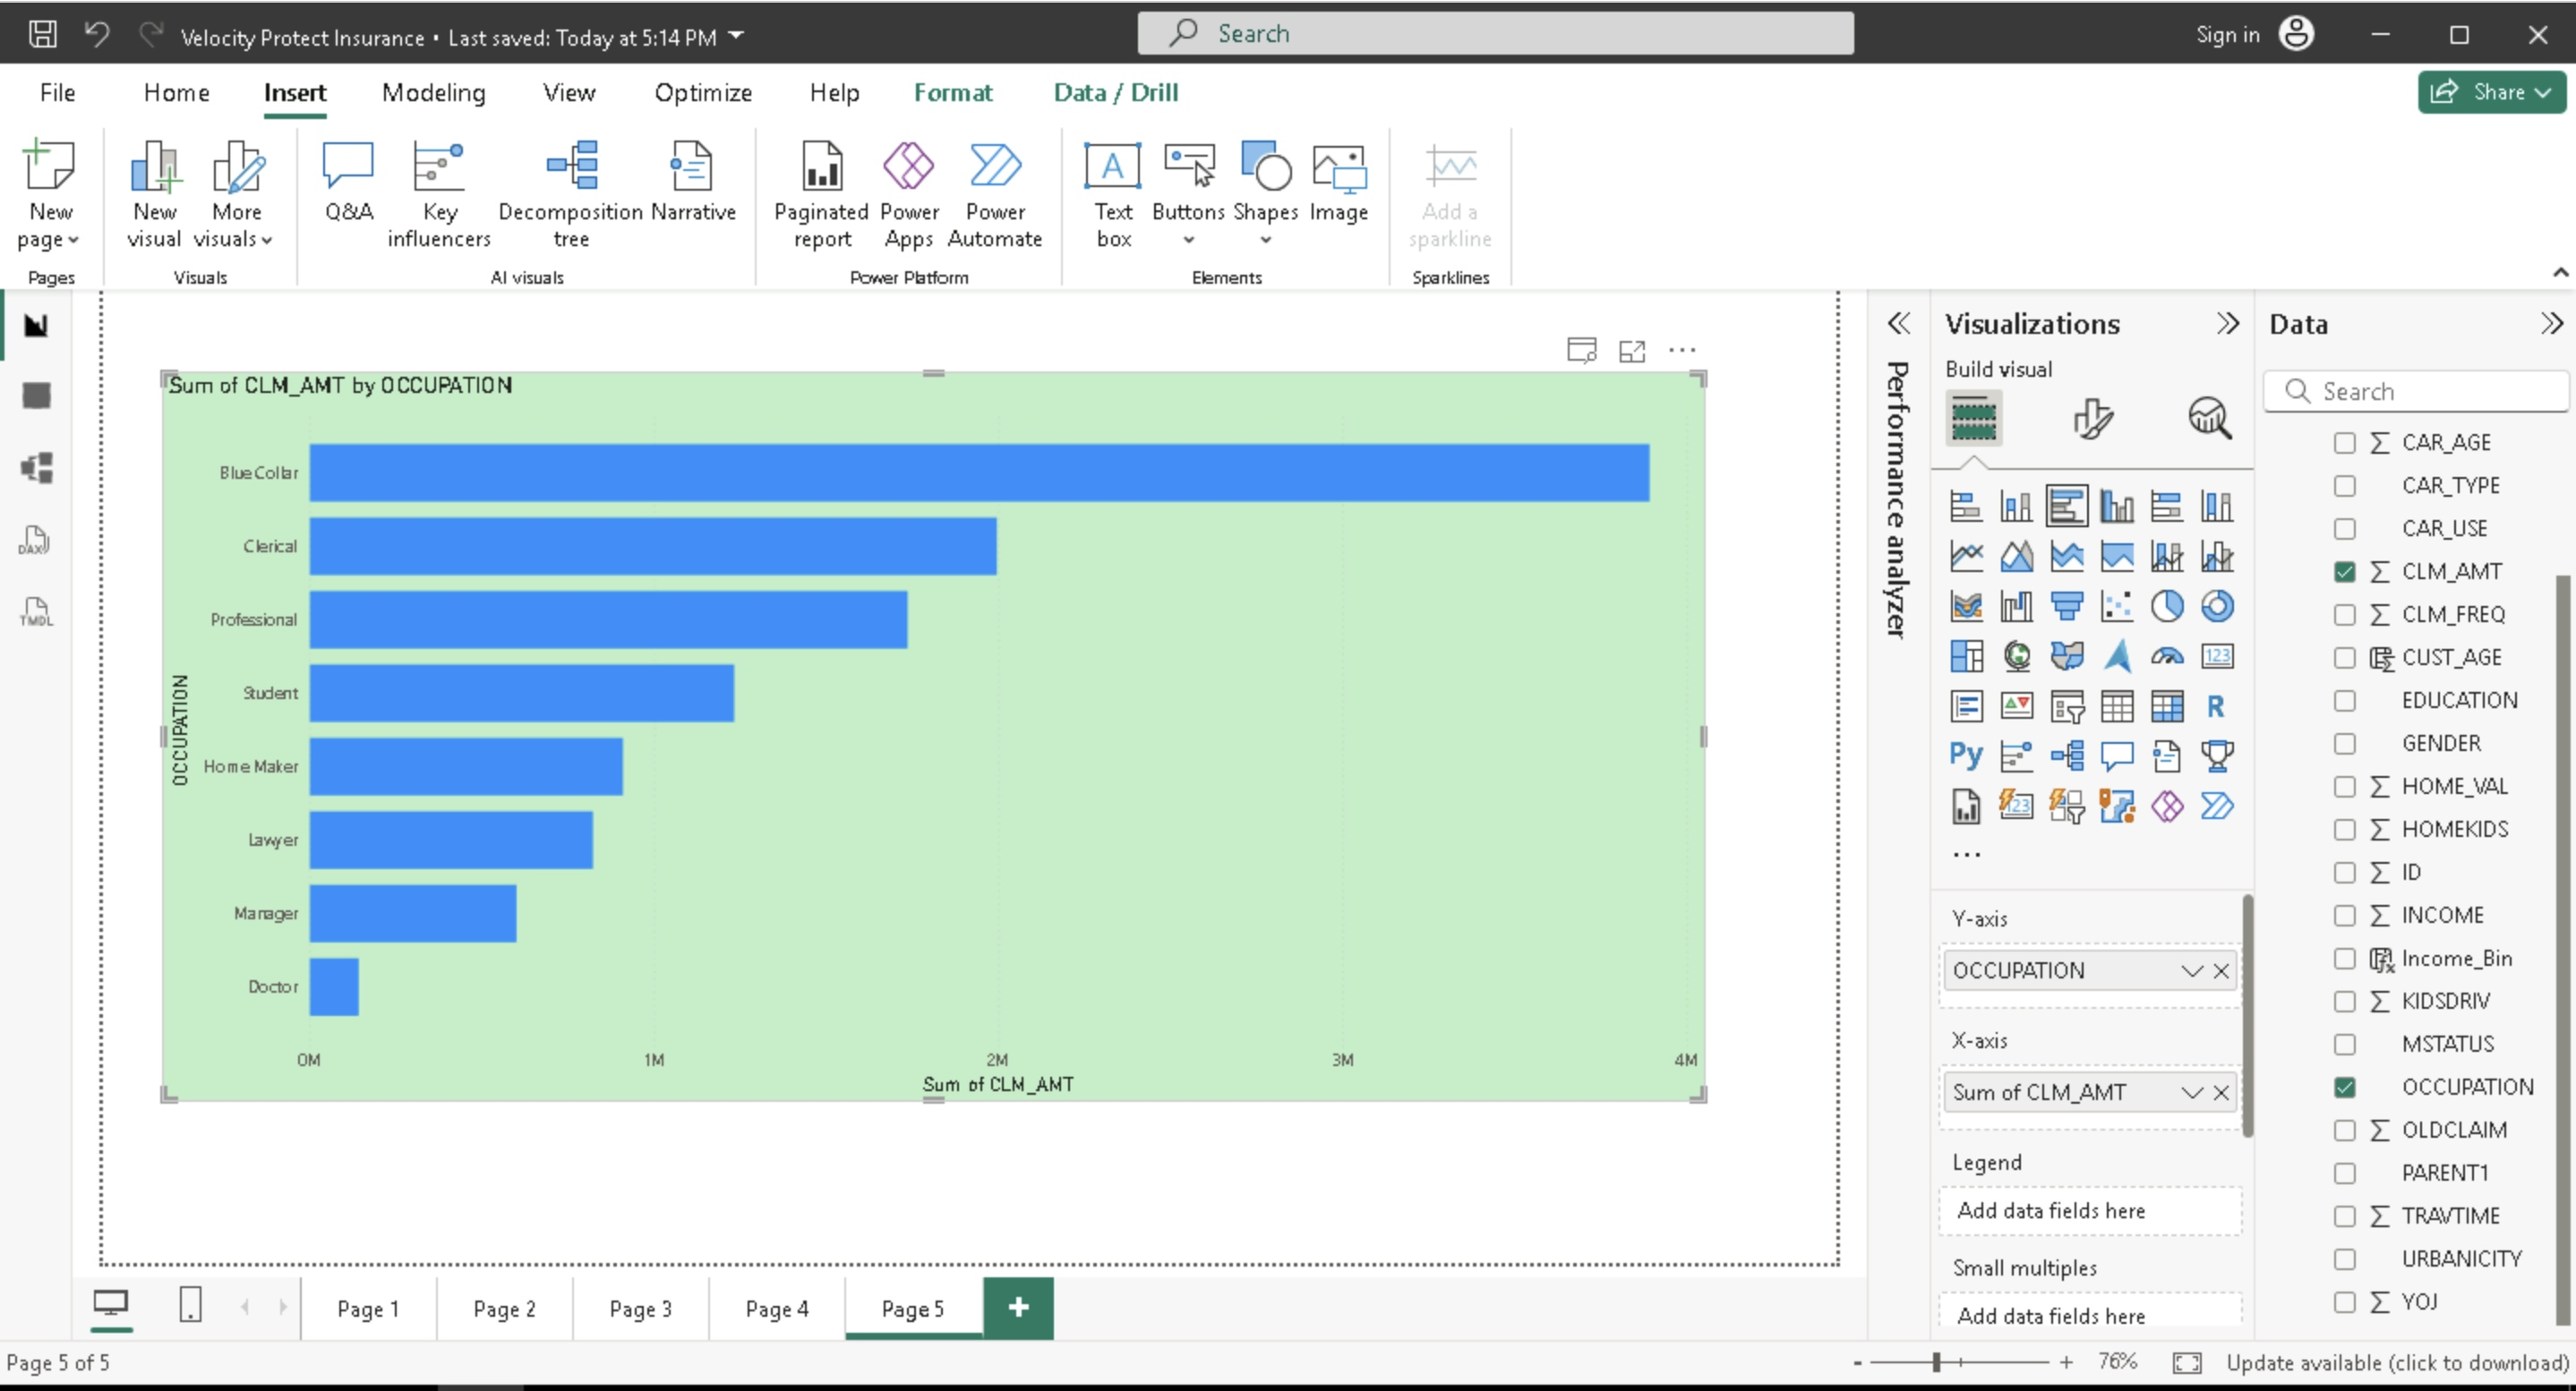

The page's visual inventory and layout, read from the dashboard file:
{"tool":"powerbi","page":{"name":"Page 5","canvas":[1280,720],"ordinal":4},"visuals":[{"type":"clusteredBarChart","fields":{"Category":["Data.OCCUPATION"],"Y":["Sum(Data.CLM_AMT)"]},"box":[43.7,60.9,1140.9,540],"z":0}]}

Visuals, with their boxes on the page's 1280x720 design canvas (x1, y1, x2, y2). These are canvas units, not pixel positions in the 2576x1391 screenshot, which may show the page scaled, cropped or inside an application window:
clusteredBarChart - Data.OCCUPATION x Sum(Data.CLM_AMT): 44:61:1185:601
